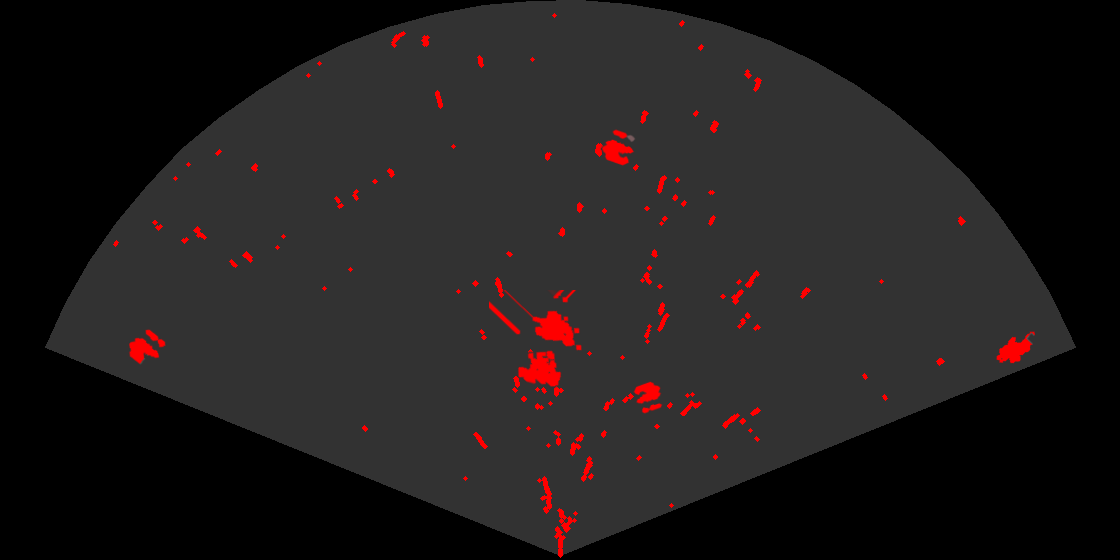AUV: (995, 330, 1037, 365)
ball: (127, 328, 167, 366), (600, 128, 636, 167), (632, 380, 664, 415)
cage: (489, 290, 584, 389)
